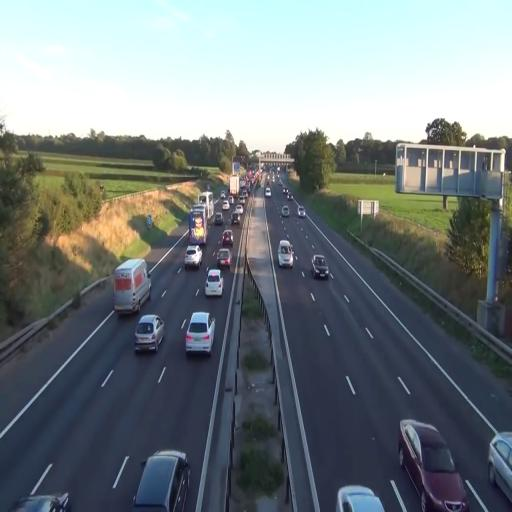vehicle: (398, 418, 470, 512), (132, 448, 192, 512), (114, 258, 152, 317), (113, 258, 151, 316), (488, 432, 512, 506), (184, 310, 215, 356), (336, 483, 385, 512), (134, 313, 164, 354), (188, 204, 208, 245), (204, 267, 224, 298), (277, 239, 295, 268), (184, 243, 203, 270), (311, 253, 330, 279), (216, 248, 232, 270), (233, 208, 243, 226), (280, 204, 290, 218)
